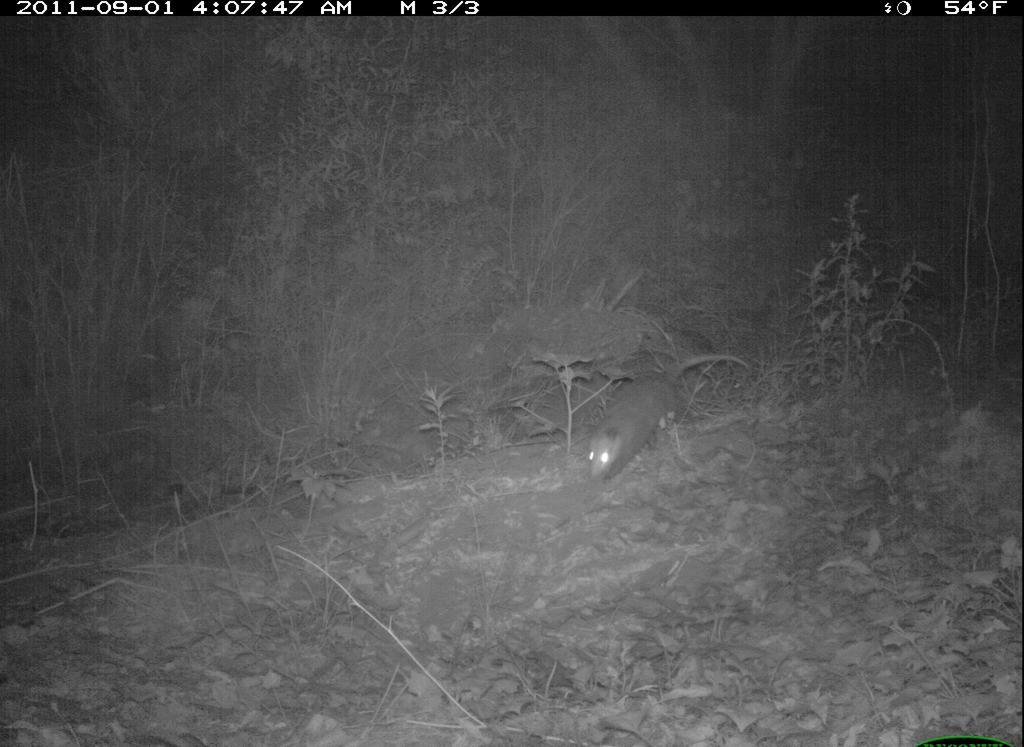opossum: (550, 349, 762, 504)
